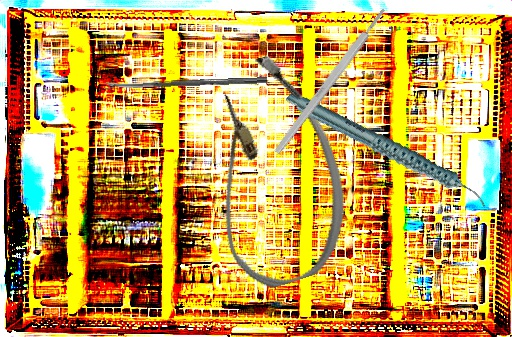Cannula: (175, 45, 368, 298)
Handpiece: (284, 56, 490, 245)
Scalpel Handle: (272, 6, 389, 156)
Surgical Spoon: (103, 76, 268, 89)
